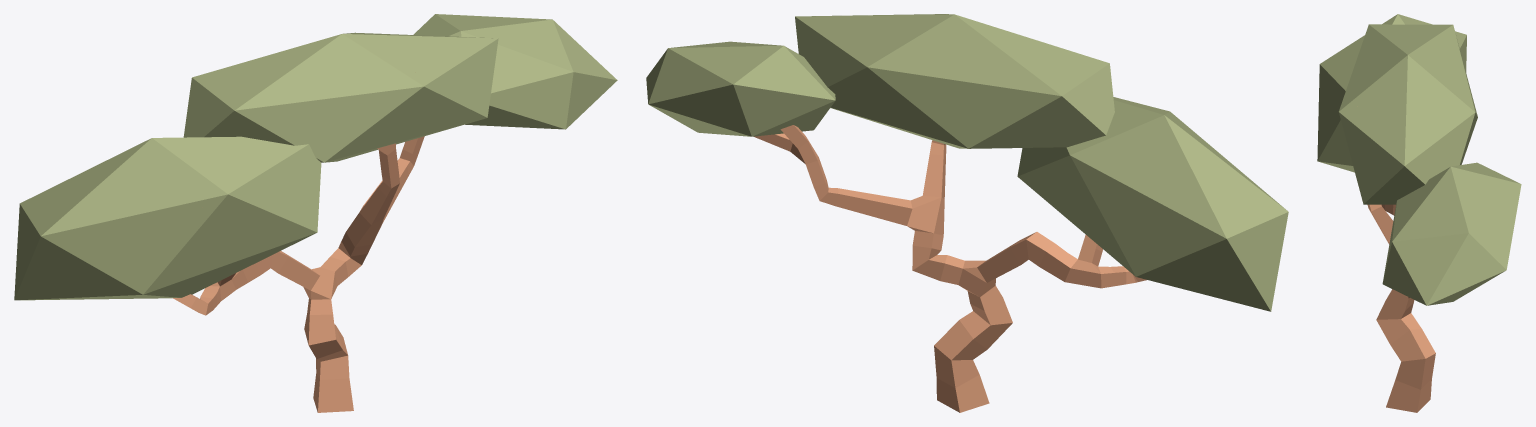
Rendered from deserttree_2.fbx.
3 views of the same model, side by side, from view 1: azimuth 30°, elevation 25°; view 2: azimuth 150°, elevation 25°; view 3: azimuth 270°, elevation 25° (orthographic). The views are drawn at different scales.
Visible parts, largest first — view 1: deserttree1; view 2: deserttree1; view 3: deserttree1.
Boxes of the visible parts, <box> form: deserttree1: <box>14,14,617,412</box>; deserttree1: <box>646,14,1288,412</box>; deserttree1: <box>1317,14,1521,412</box>.
Size of the model in its own units: 9.19 by 2.83 by 5.39.
